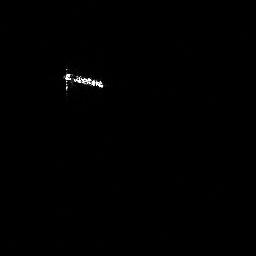ship: (62, 66, 105, 98)
